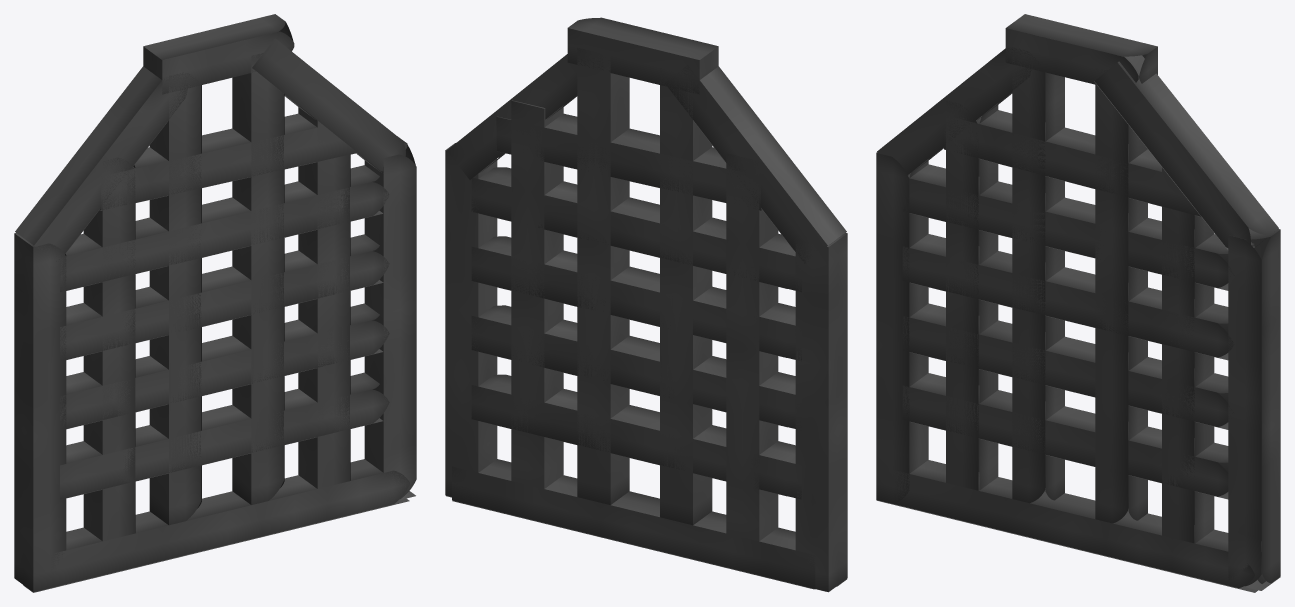
File: gridfin.obj
3 views of the same model, side by side, from view 1: azimuth 30°, elevation 25°; view 2: azimuth 150°, elevation 25°; view 3: azimuth 330°, elevation 25° (orthographic).
Visible parts, largest first — view 1: GridFin; view 2: GridFin; view 3: GridFin.
Part boxes in pixels (x1,y1,x2,y2): GridFin: (14, 14, 416, 592); GridFin: (445, 17, 847, 592); GridFin: (876, 14, 1280, 592).
Size of the model in its own units: 0.725 by 0.9062 by 0.069.
